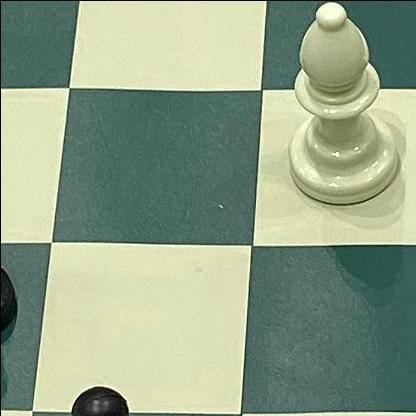black-pawn: (40, 373, 173, 416), (0, 173, 27, 360)
white-bishop: (272, 0, 416, 220)
